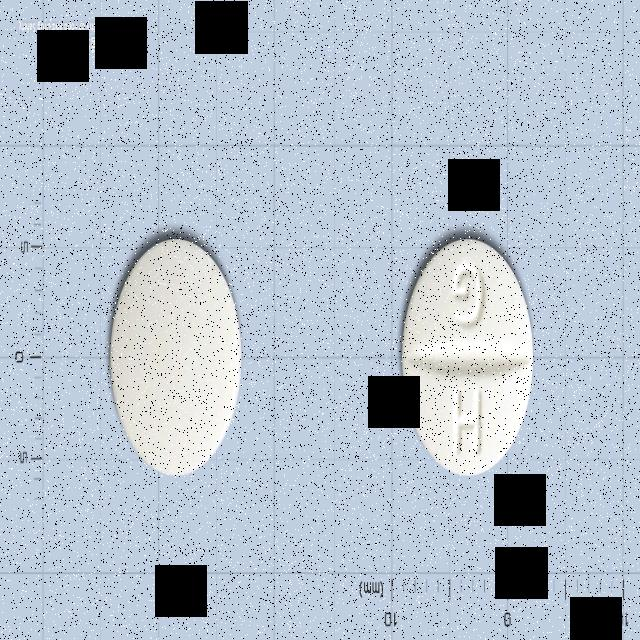Cipoxcin: (395, 226, 538, 484), (105, 228, 245, 484)
